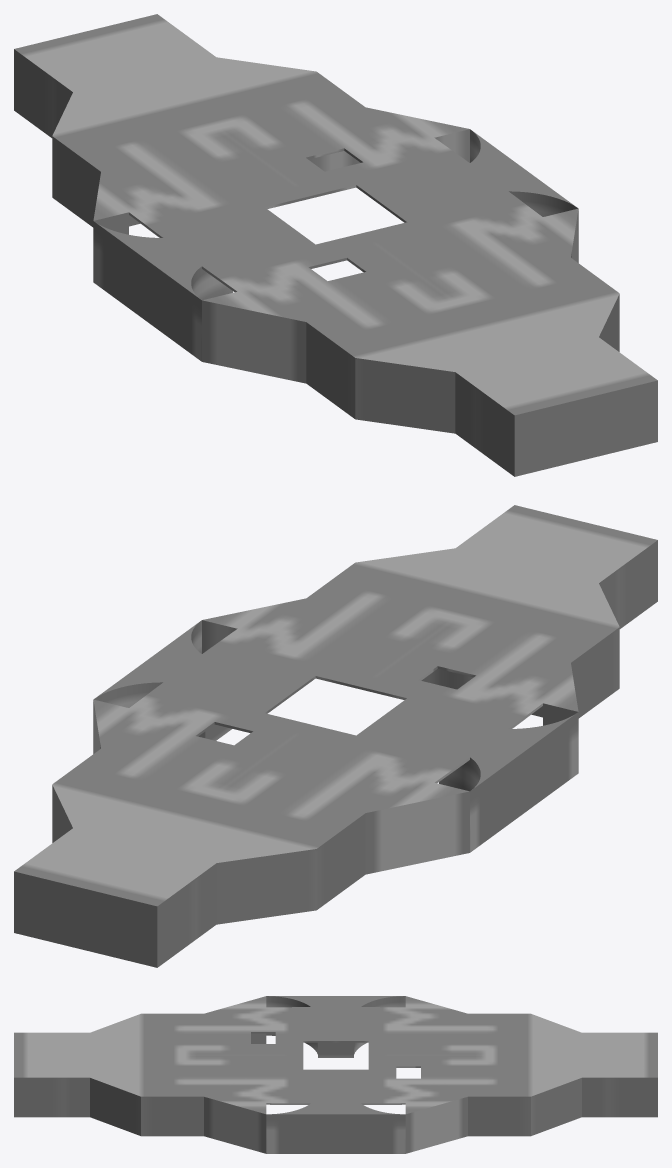
File: prop_Floor2_EM_B.fbx
3 views of the same model, one above another, from view 1: azimuth 30°, elevation 25°; view 2: azimuth 150°, elevation 25°; view 3: azimuth 270°, elevation 25° (orthographic). The views are drawn at different scales.
Visible parts, largest first — view 1: prop_Floor2_EM_B; view 2: prop_Floor2_EM_B; view 3: prop_Floor2_EM_B.
Boxes of the visible parts, bbox=[...] form: prop_Floor2_EM_B: bbox=[14, 14, 657, 476]; prop_Floor2_EM_B: bbox=[14, 505, 657, 967]; prop_Floor2_EM_B: bbox=[14, 996, 657, 1153].
Size of the model in its own units: 3834 by 598 by 8827.
